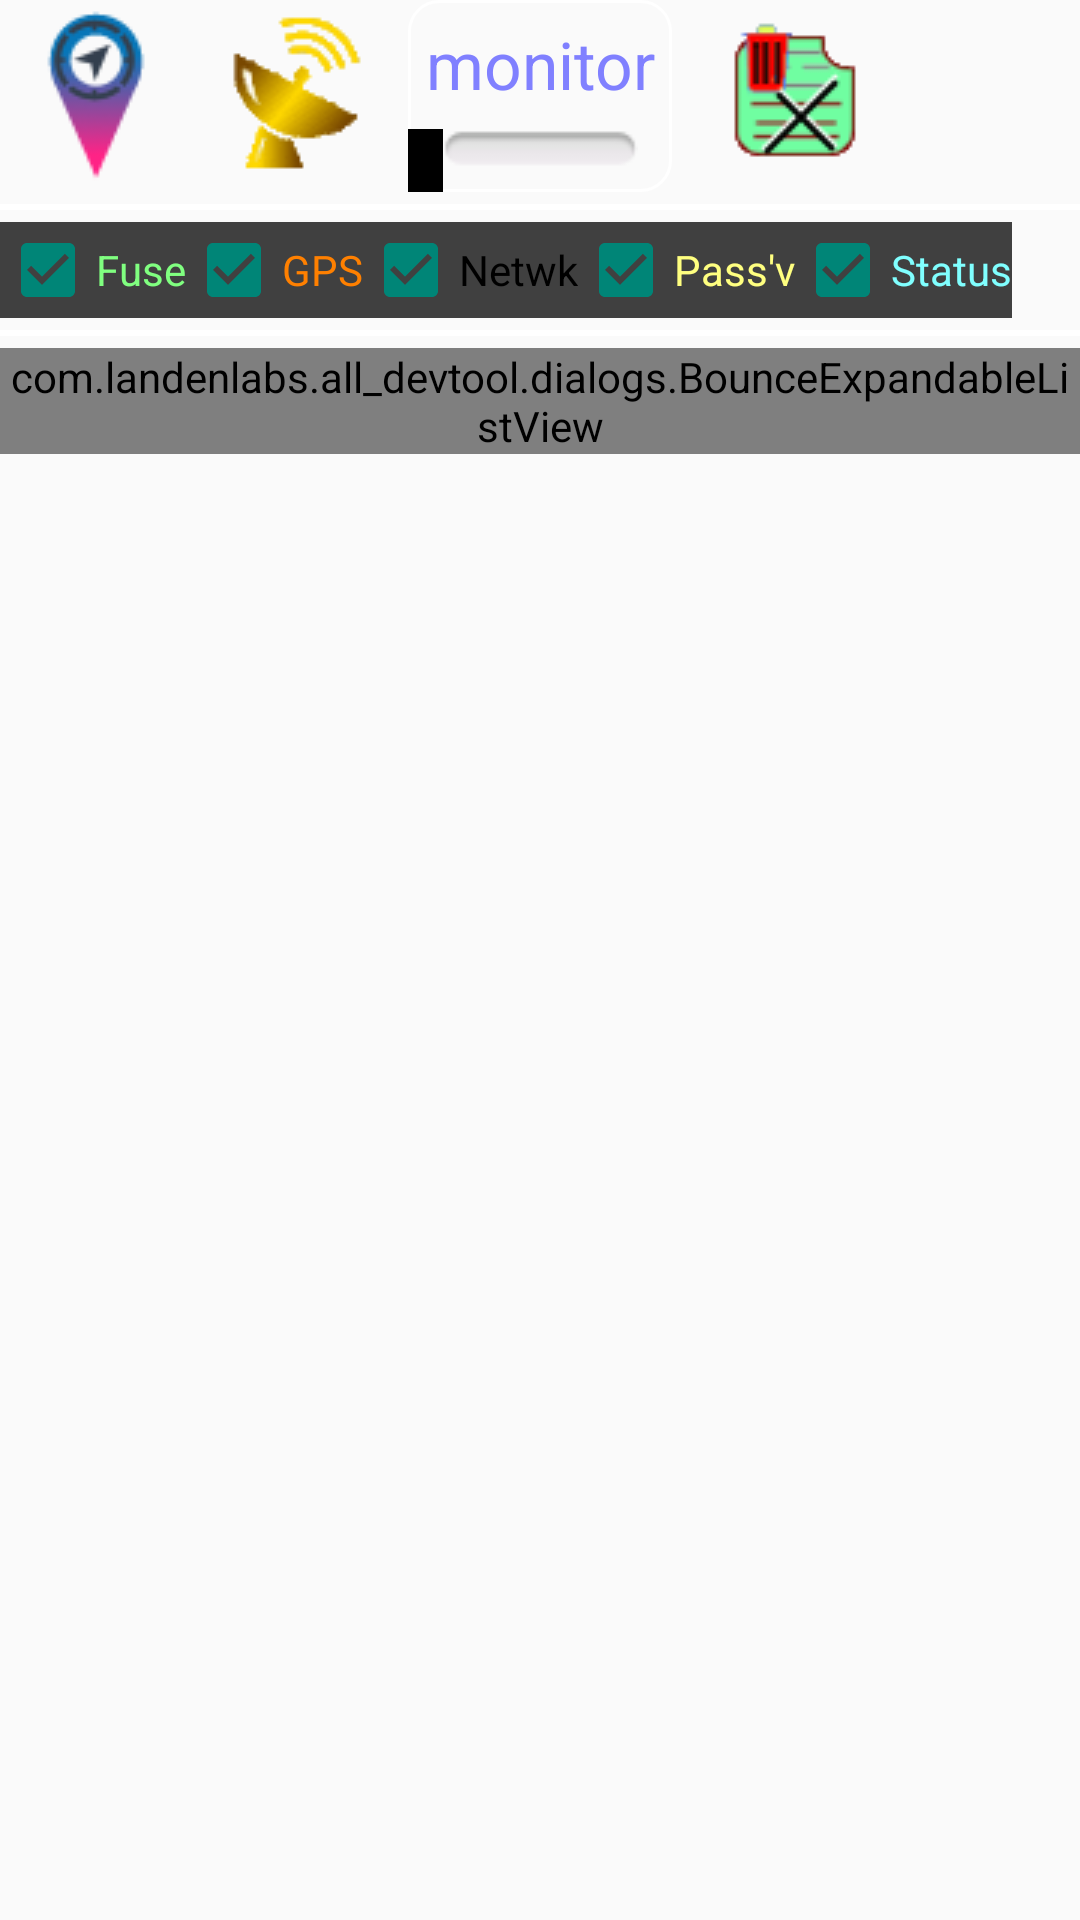

Named icons in this screenshot (1080px x 1920px) and their centers, (x,y):
gps clear: (795,90)
gps satellite: (297,93)
